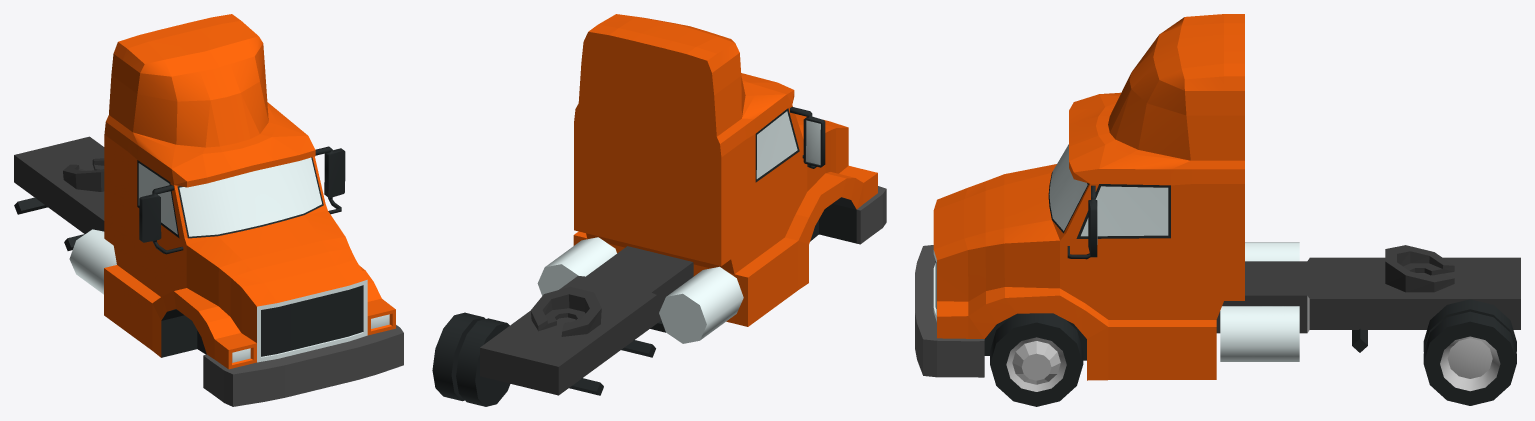
The model's file is CarTruck.FBX.
3 renders of one model, left to right at view 1: azimuth 30°, elevation 25°; view 2: azimuth 150°, elevation 25°; view 3: azimuth 270°, elevation 25°, orthographic. The views are drawn at different scales.
Visible parts, largest first — view 1: Truck; view 2: Truck, TruckWheelBackDouble; view 3: Truck, TruckWheelBackDouble, TruckWheel.
Boxes of the visible parts, x1,y1,x2,y2 form: Truck: (14, 14, 403, 406); Truck: (480, 14, 886, 395); TruckWheelBackDouble: (432, 312, 510, 406); Truck: (915, 14, 1520, 380); TruckWheelBackDouble: (1423, 299, 1516, 405); TruckWheel: (990, 313, 1083, 406).
Size of the model in its own units: 0.0721 by 0.0957 by 0.1661.
Materials: 1 (1 with a texture image).
